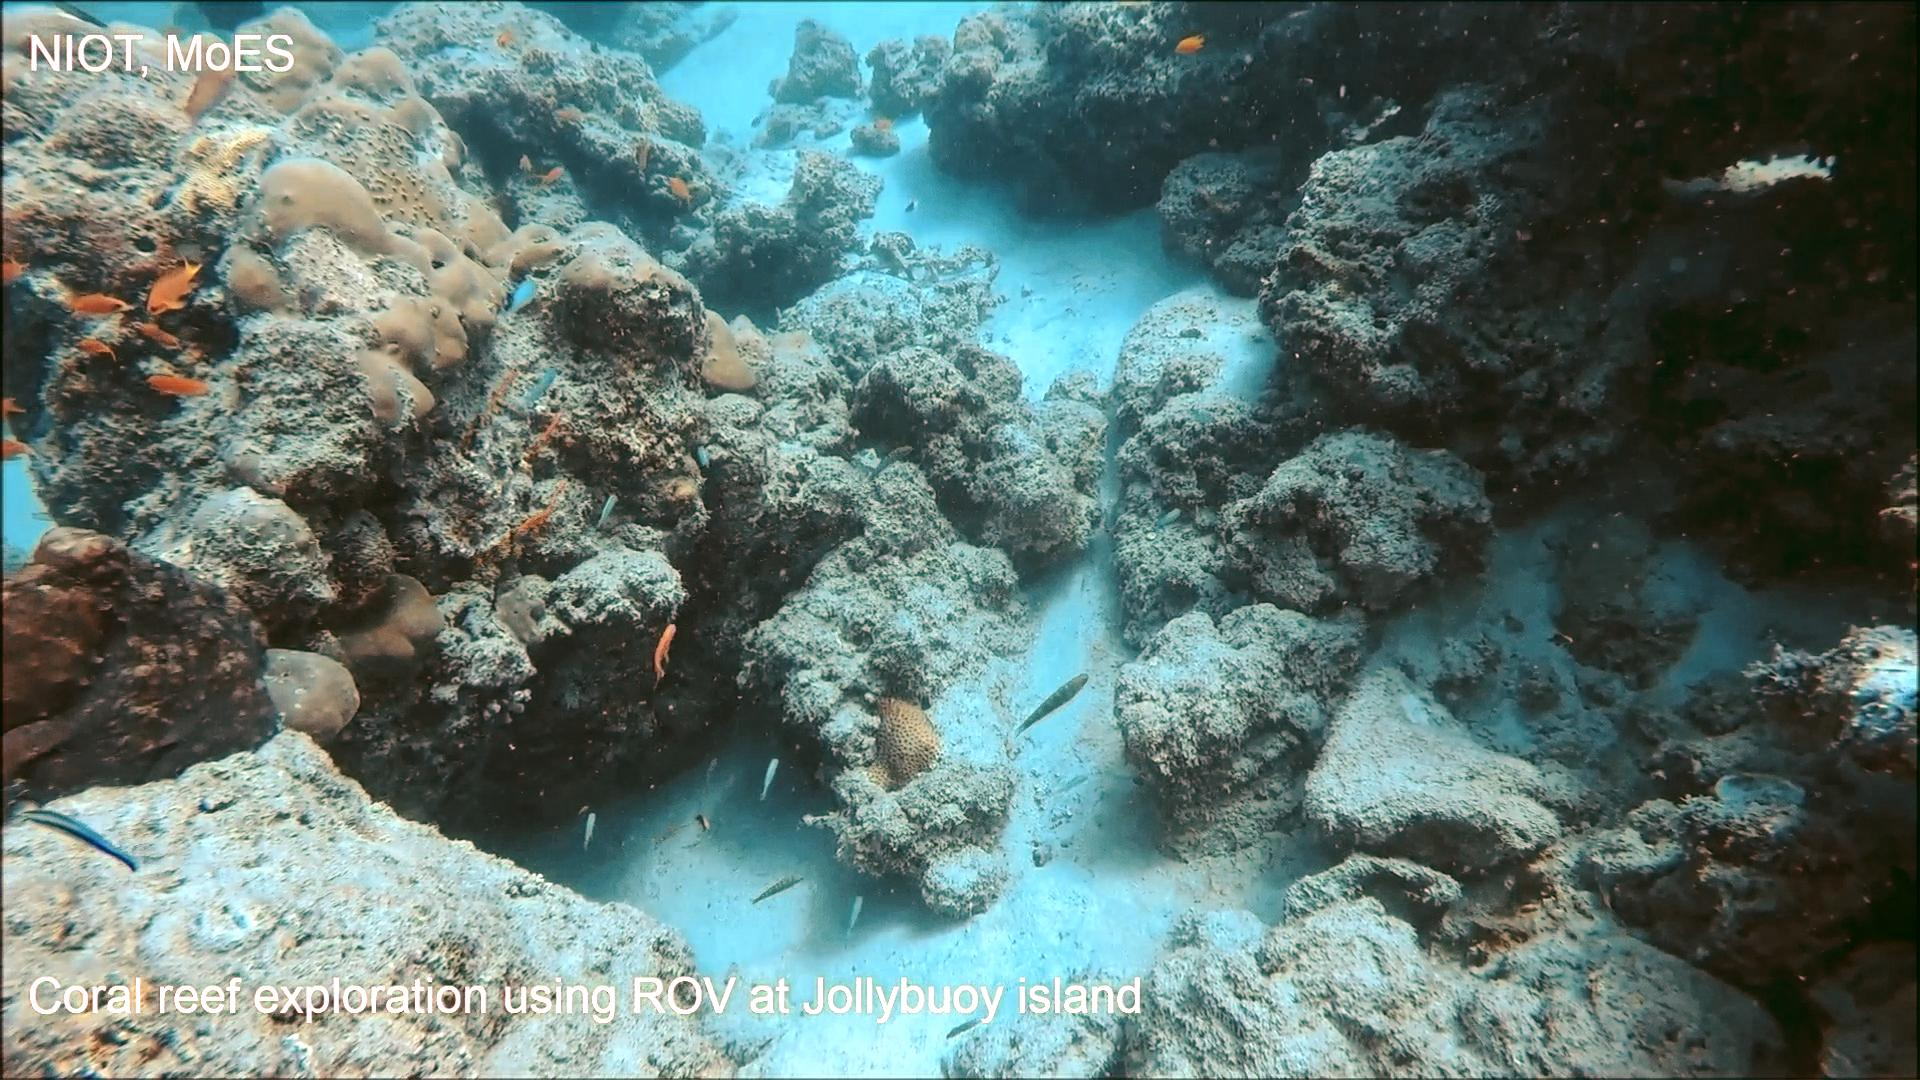Porites-Porites pukoensis: (143, 4, 576, 442)
